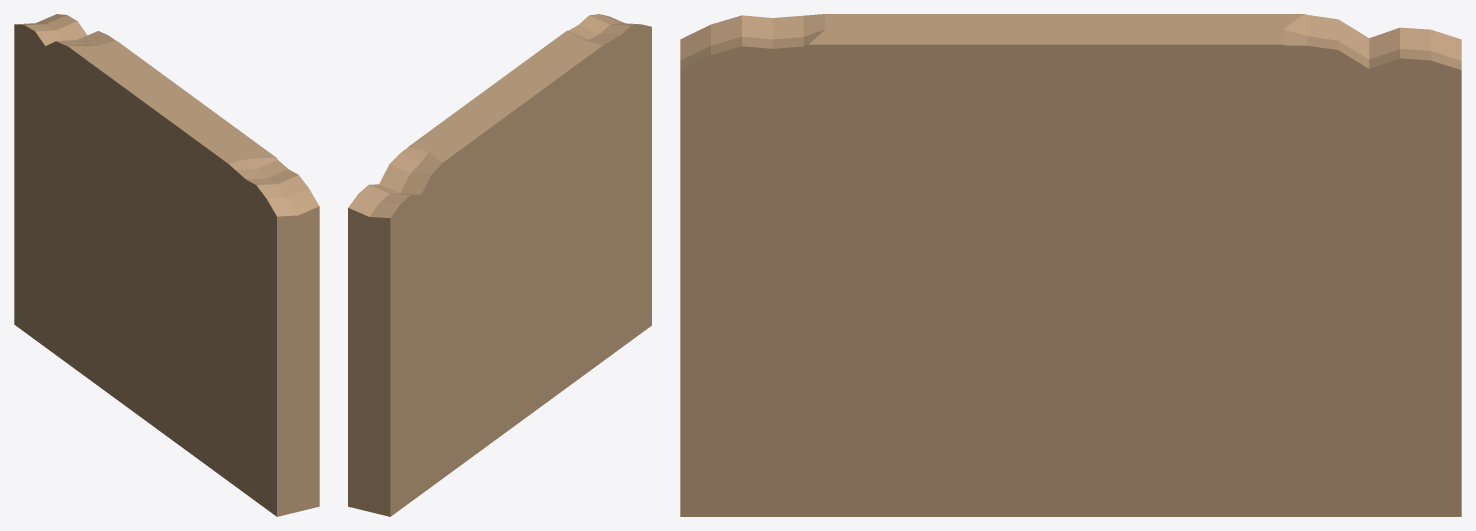
File: wall.fbx
3 views of the same model, side by side, from view 1: azimuth 30°, elevation 25°; view 2: azimuth 150°, elevation 25°; view 3: azimuth 270°, elevation 25° (orthographic). The views are drawn at different scales.
Visible parts, largest first — view 1: Wall Final; view 2: Wall Final; view 3: Wall Final.
Boxes of the visible parts, left/top/right/bottom form: Wall Final: left=14, top=14, right=319, bottom=516; Wall Final: left=348, top=14, right=651, bottom=516; Wall Final: left=680, top=14, right=1461, bottom=516.
Bounding box in the file's own units: 140 × 1000 × 1500.
